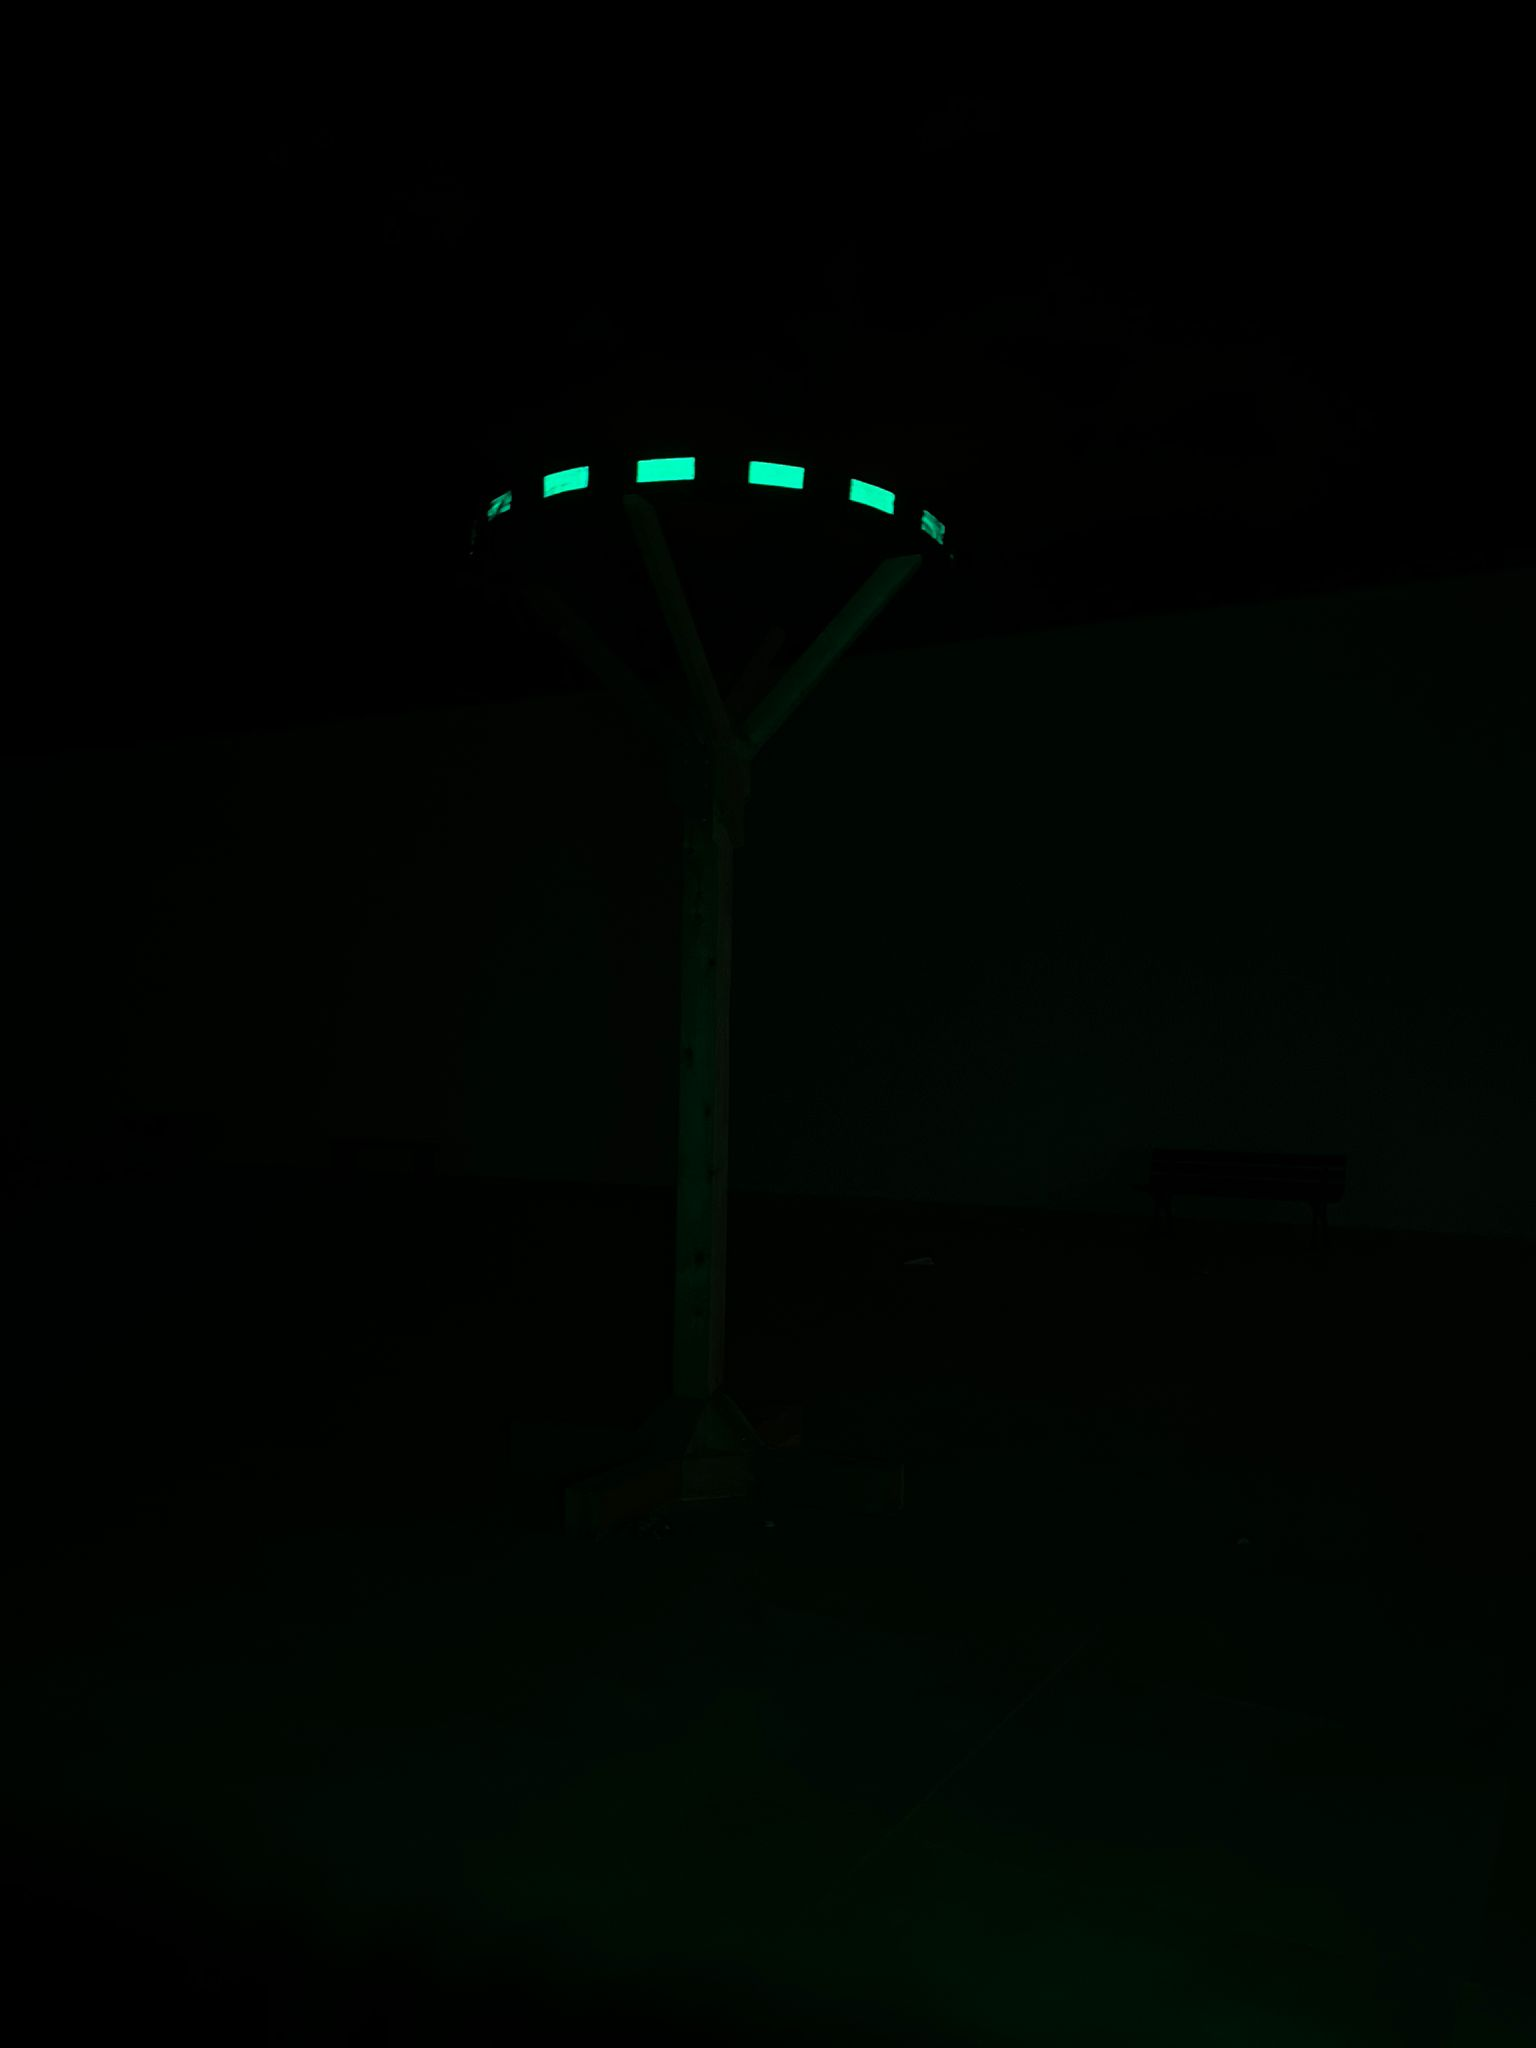hoop: (481, 440, 950, 555)
